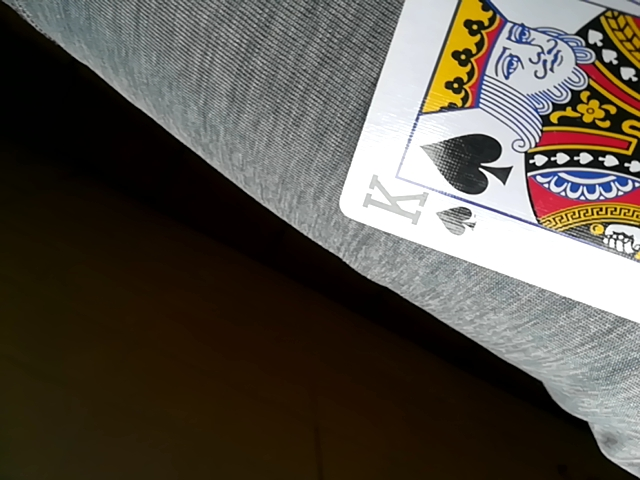ht k: (336, 8, 640, 390)
